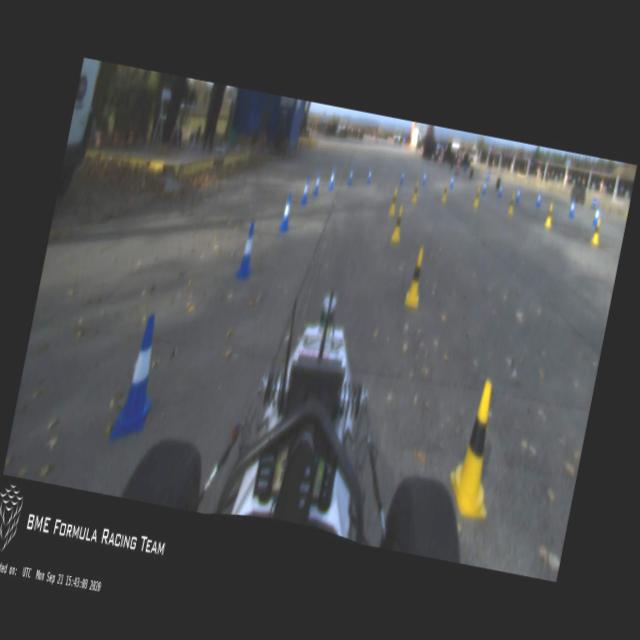blue_cone: (110, 309, 170, 446), (234, 221, 260, 280), (278, 192, 295, 230), (299, 174, 312, 207), (347, 163, 357, 186), (364, 163, 374, 186), (420, 168, 430, 190), (568, 196, 578, 218), (328, 168, 338, 190), (313, 170, 322, 192), (592, 206, 600, 230), (535, 188, 544, 208), (448, 171, 456, 192), (398, 168, 406, 188), (496, 180, 504, 199), (481, 177, 488, 196), (515, 186, 522, 204)
yellow_cone: (443, 376, 509, 522), (402, 246, 430, 310), (390, 206, 406, 242), (386, 184, 400, 218), (591, 214, 604, 244), (544, 202, 556, 230), (472, 185, 482, 208), (506, 194, 516, 217), (440, 182, 450, 204), (410, 180, 420, 202)
